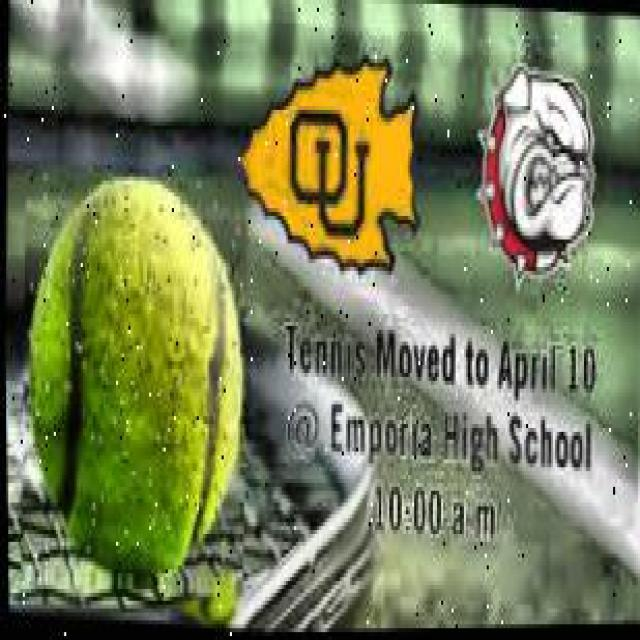tennis-ball: (14, 167, 255, 603)
